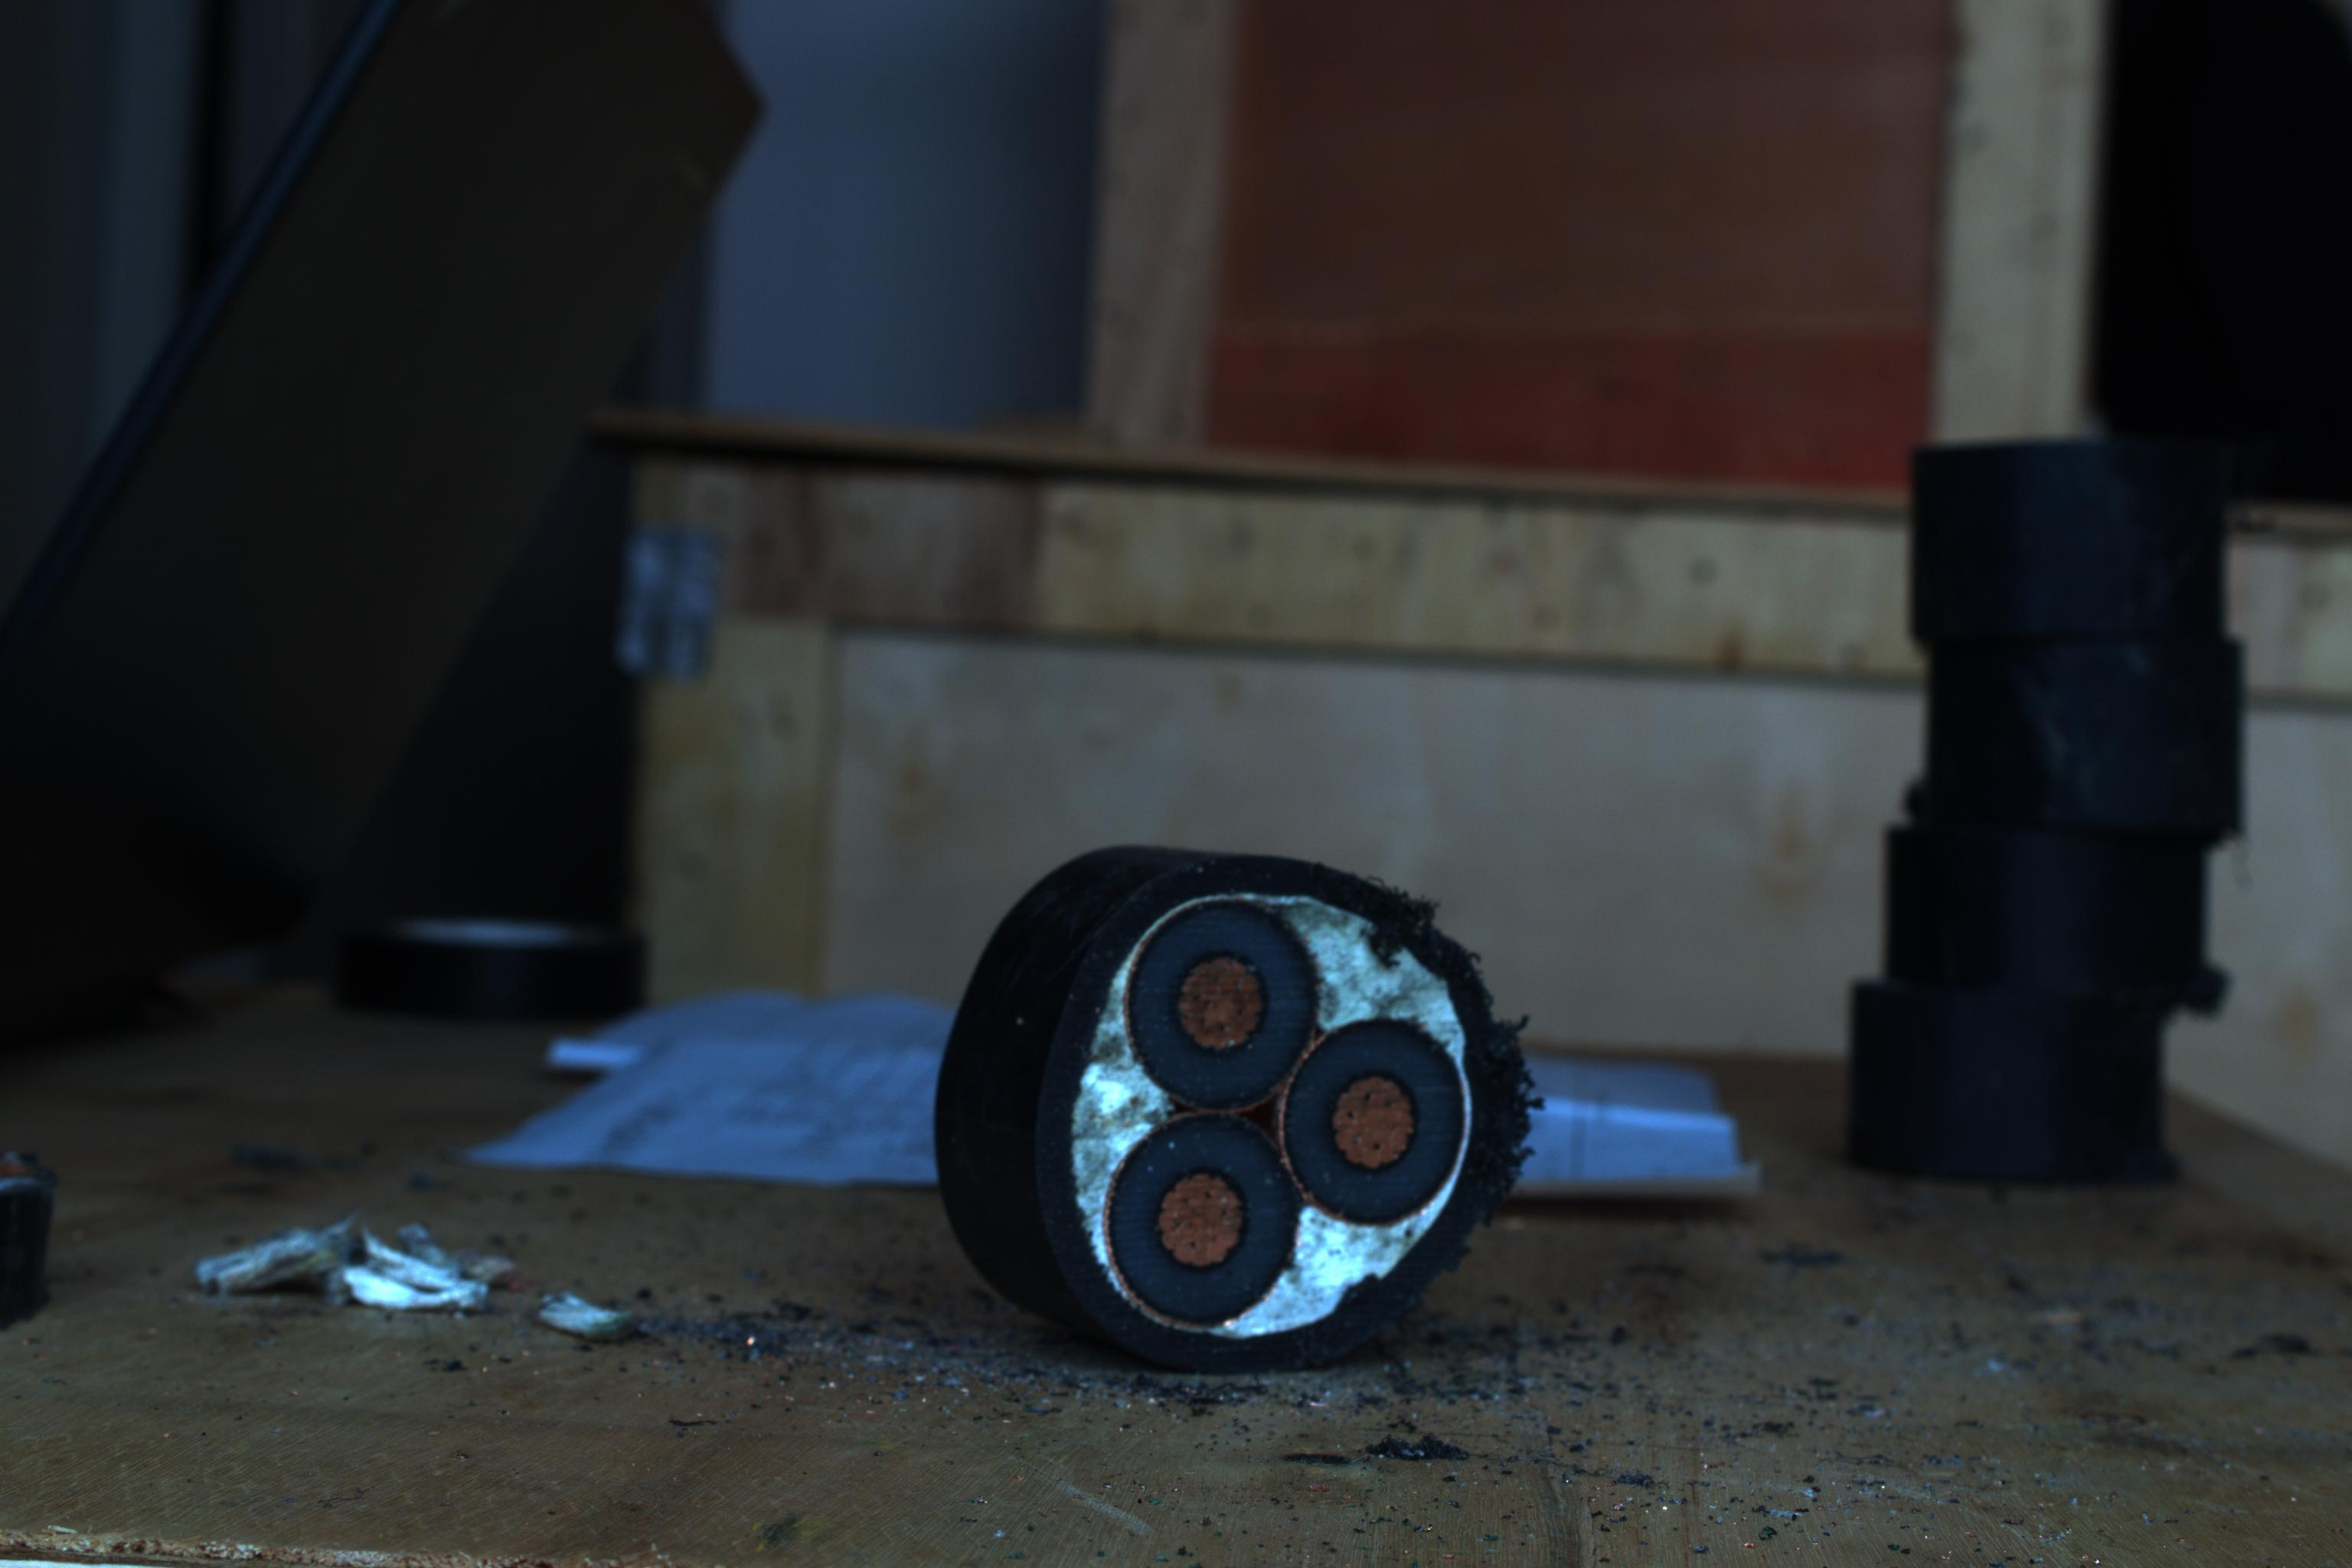YJV_8.7_10kV_3x70: (983, 856, 1547, 1360)
